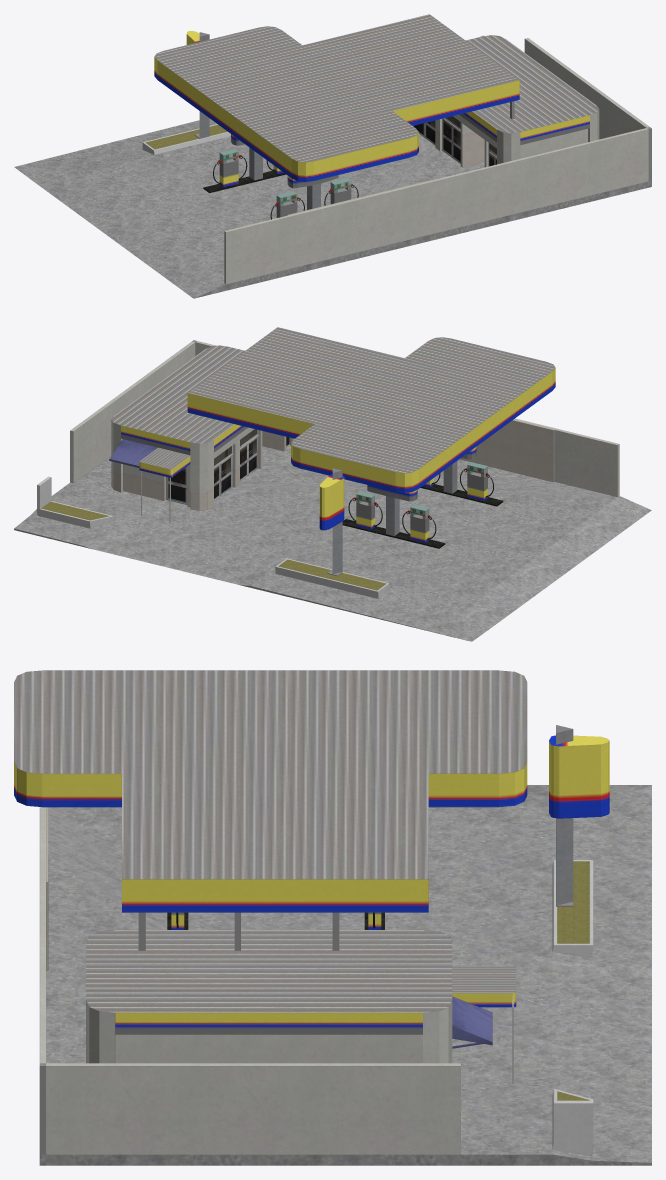
The model's file is Gas Station.fbx.
3 views of the same model, one above another, from view 1: azimuth 30°, elevation 25°; view 2: azimuth 150°, elevation 25°; view 3: azimuth 270°, elevation 25° (orthographic). The views are drawn at different scales.
Parts seen in each view (by area): view 1: gas_station; view 2: gas_station; view 3: gas_station.
Boxes of the visible parts, box(x1,y1,x2,y2) form: gas_station: box(14, 14, 651, 298); gas_station: box(14, 327, 651, 641); gas_station: box(14, 670, 651, 1165).
Bounding box in the file's own units: 1452 × 350 × 1029.
1 material, 1 textured.
